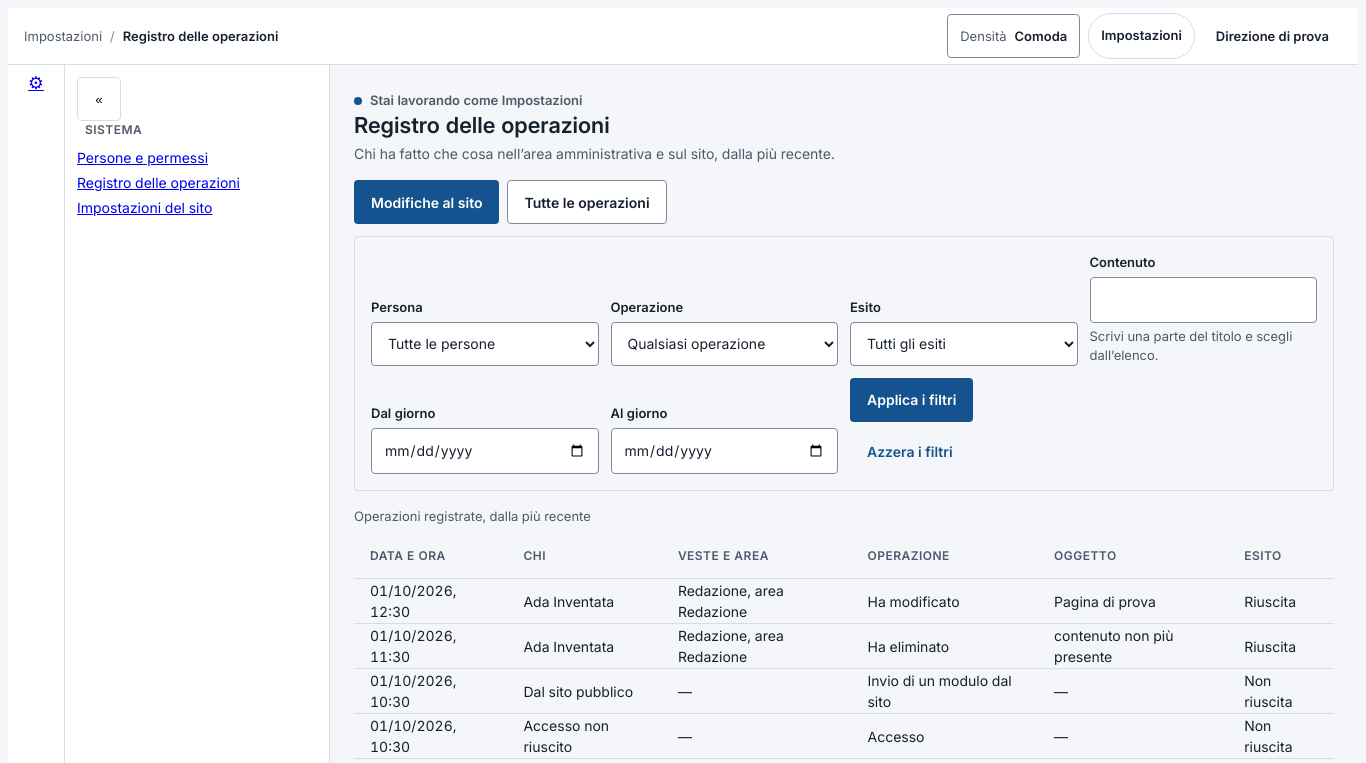
Test: registro delle operazioni › «Tutte le operazioni» richiede la vista completa
Expected: the text "Ha modificato" is shown, x1=852 y1=579 x2=1038 y2=624
Click the button "Tutte le operazioni": (587, 202) x1=508 y1=180 x2=667 y2=224
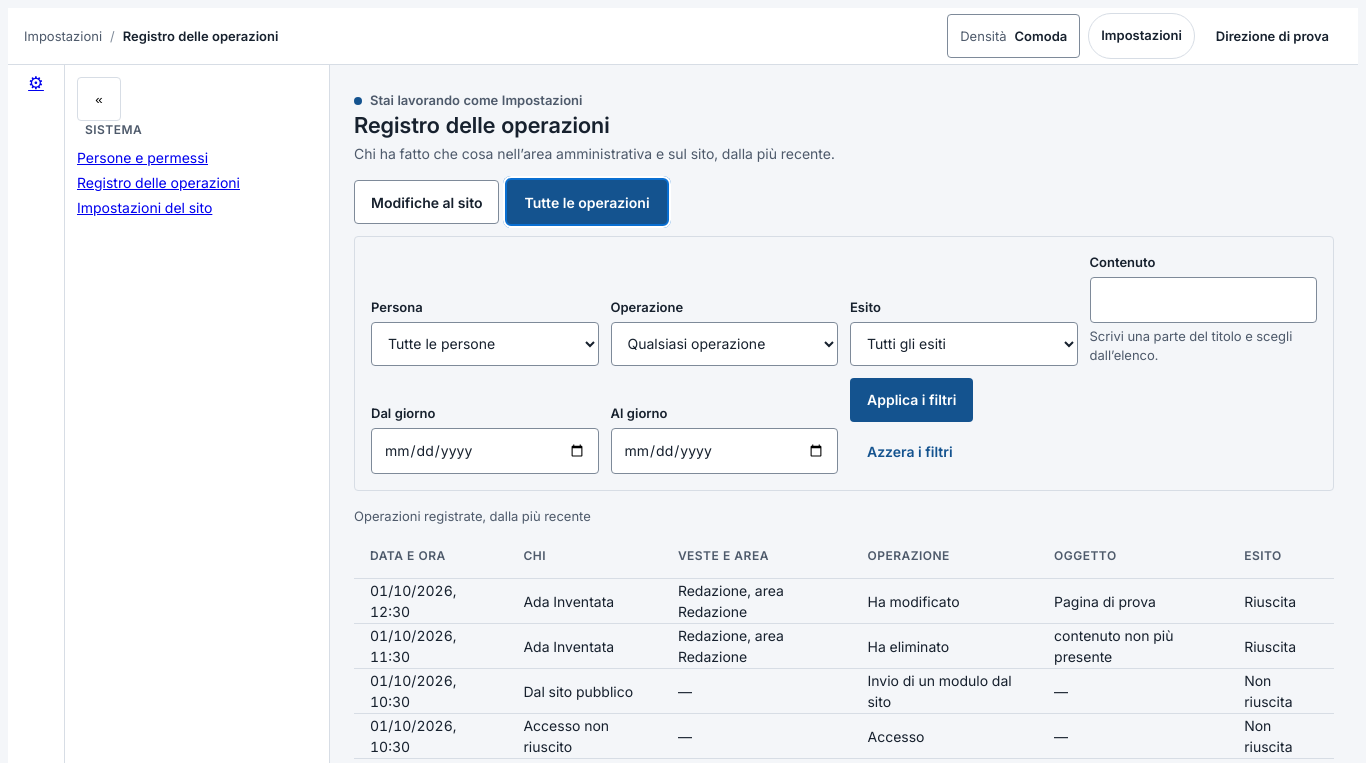
Expected: the button "Tutte le operazioni" is pressed, x1=508 y1=180 x2=667 y2=224
